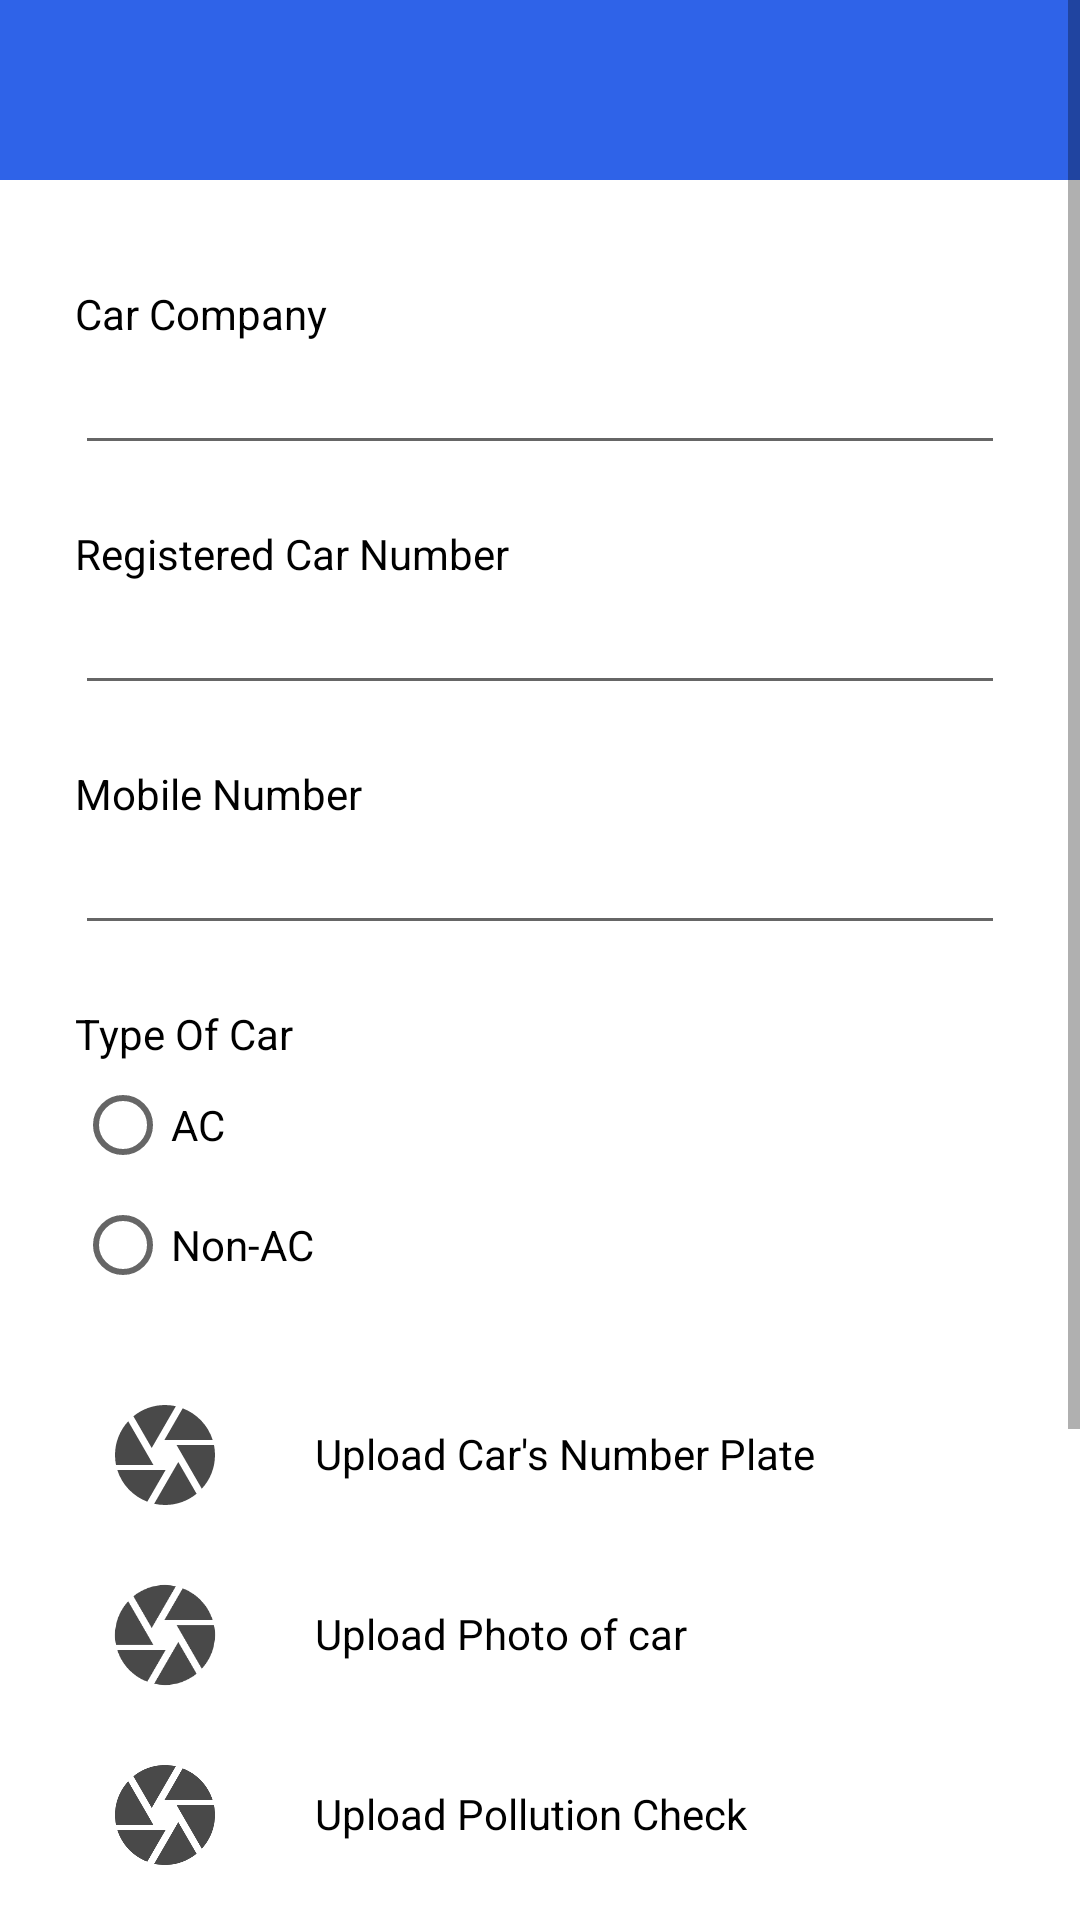

Icon bounding boxes for this 1080x1920 phone screenshot, format bbox=[x1, y1, x2, y2]:
camera: bbox=[115, 1405, 215, 1505], bbox=[115, 1585, 215, 1685], bbox=[115, 1765, 215, 1865]
